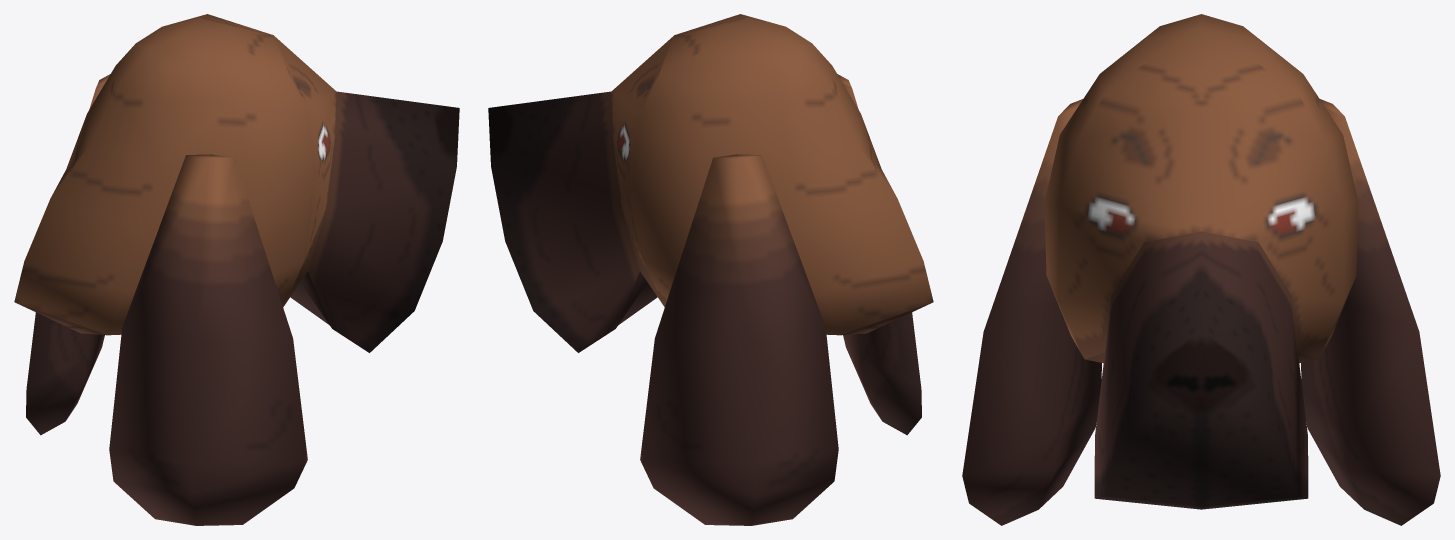
File: Vil_Hound_Head.fbx
3 views of the same model, side by side, from view 1: azimuth 30°, elevation 25°; view 2: azimuth 150°, elevation 25°; view 3: azimuth 270°, elevation 25° (orthographic). The views are drawn at different scales.
Visible parts, largest first — view 1: Hound_Head; view 2: Hound_Head; view 3: Hound_Head.
Part boxes in pixels (x1,y1,x2,y2): Hound_Head: (14, 14, 459, 525); Hound_Head: (488, 14, 933, 525); Hound_Head: (962, 14, 1440, 525).
Size of the model in its own units: 4.72 by 4.31 by 3.63.
